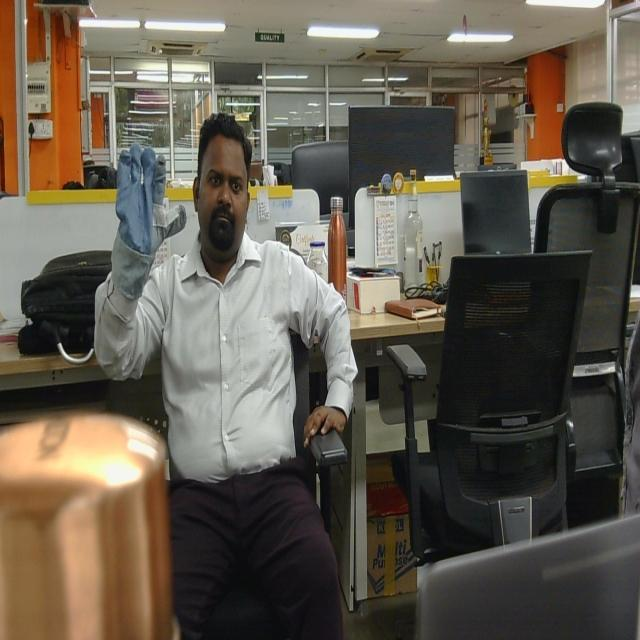Gloves-Detection: (107, 134, 186, 300)
